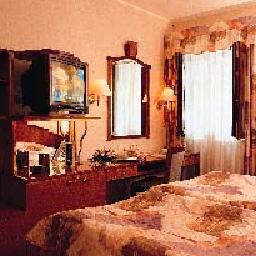Cama: (33, 172, 254, 249)
Ventana: (184, 49, 246, 142)
